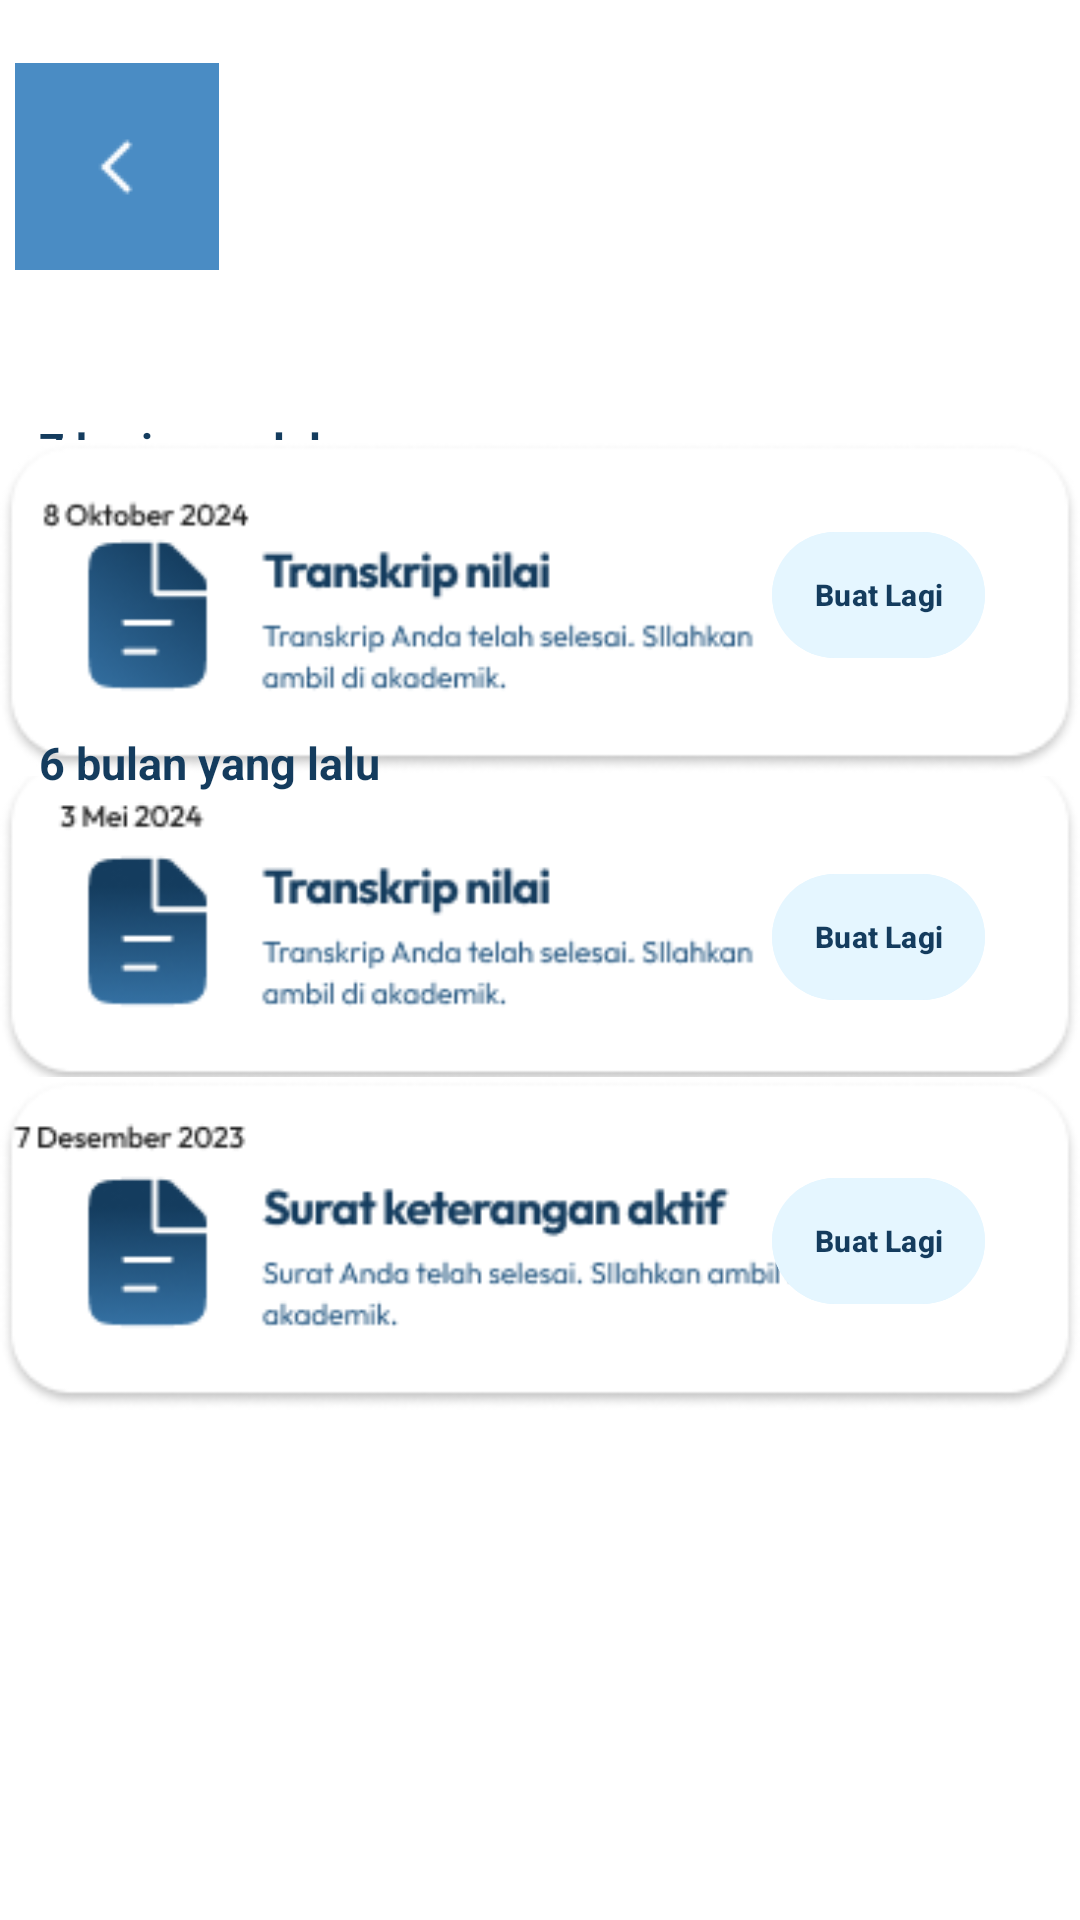

Icons on this 1080 x 1920 Android screen, each with the point to tap as (x=x, y=y):
back: (x=117, y=166)
